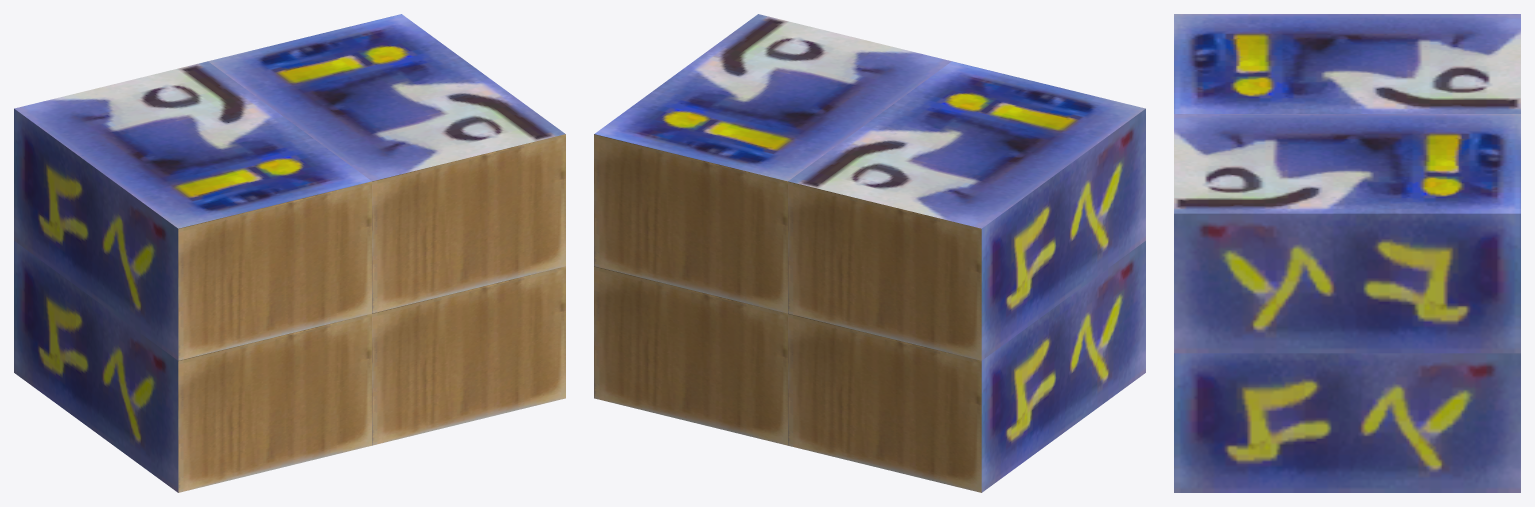
File: gunshopammoboxblueblock.obj
3 views of the same model, side by side, from view 1: azimuth 30°, elevation 25°; view 2: azimuth 150°, elevation 25°; view 3: azimuth 270°, elevation 25° (orthographic). The views are drawn at different scales.
Visible parts, largest first — view 1: gunshopammoboxblueblock; view 2: gunshopammoboxblueblock; view 3: gunshopammoboxblueblock.
Part boxes in pixels (<box>): gunshopammoboxblueblock: <box>14,14,565,492</box>; gunshopammoboxblueblock: <box>594,14,1145,492</box>; gunshopammoboxblueblock: <box>1174,14,1520,492</box>.
Bounding box in the file's own units: 0.503 × 0.3277 × 0.3689.
Materials: 1 (1 with a texture image).
